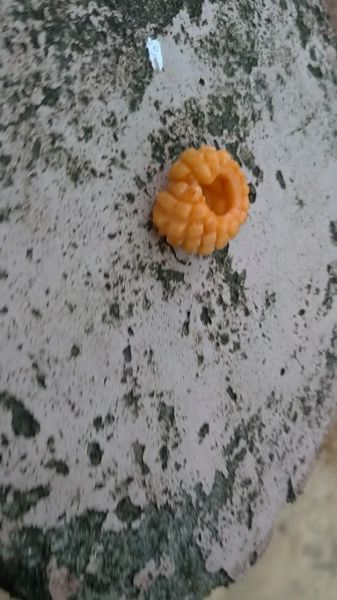eggs: (147, 139, 257, 260)
